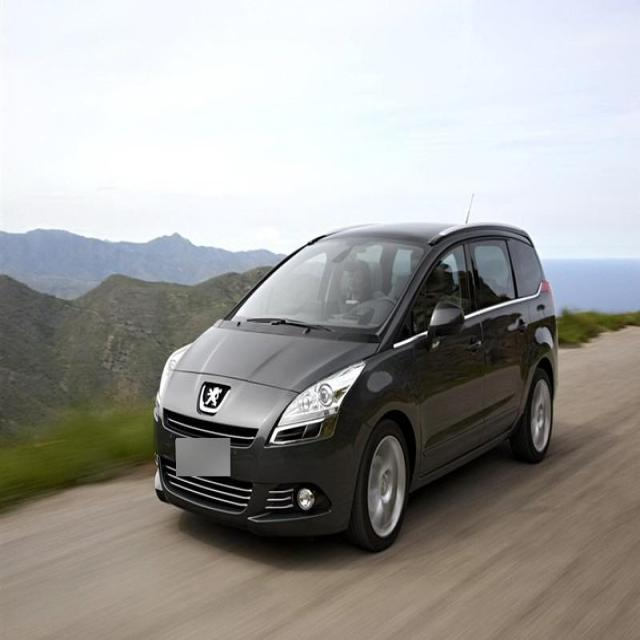door: (469, 238, 524, 432)
front_bumper: (148, 369, 358, 540)
front_glass: (227, 238, 428, 339)
front_left_side_door: (410, 229, 490, 485)
front_left_side_light: (266, 357, 368, 449)
front_left_side_mirror: (428, 296, 464, 345)
front_right_side_light: (154, 340, 193, 414)
wheel: (351, 419, 412, 552), (522, 367, 554, 460)
